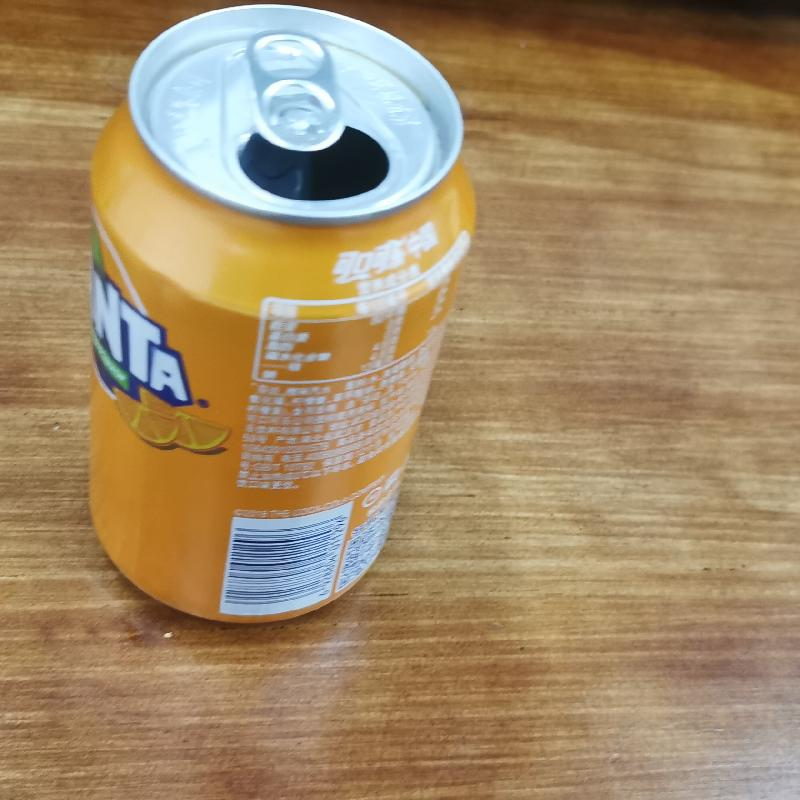cans: (83, 0, 479, 626)
